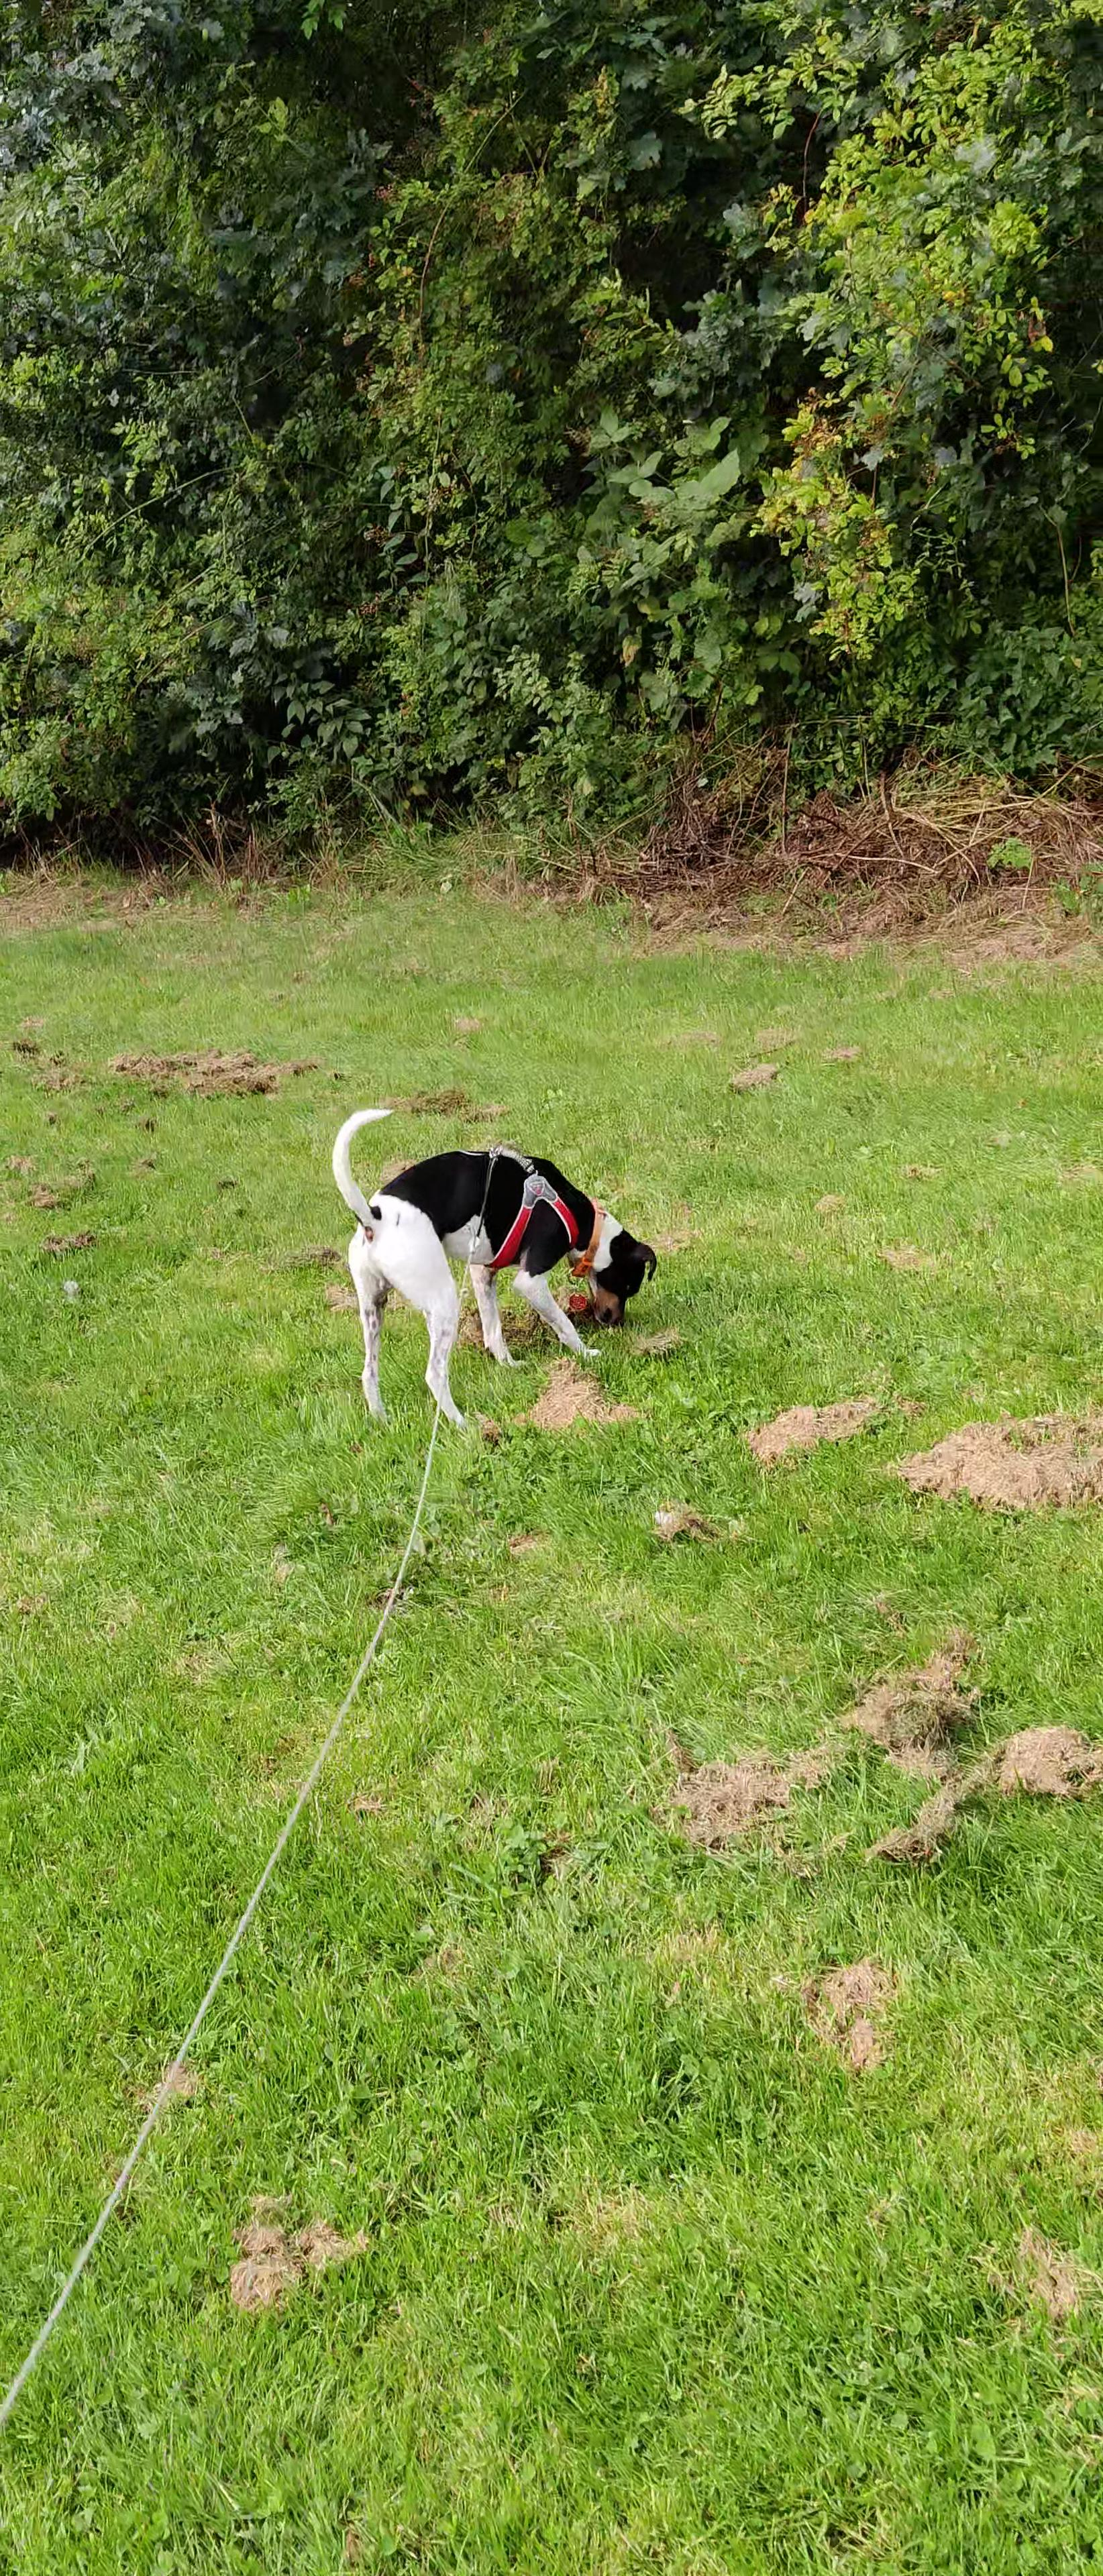Dog: (311, 1088, 682, 1441)
